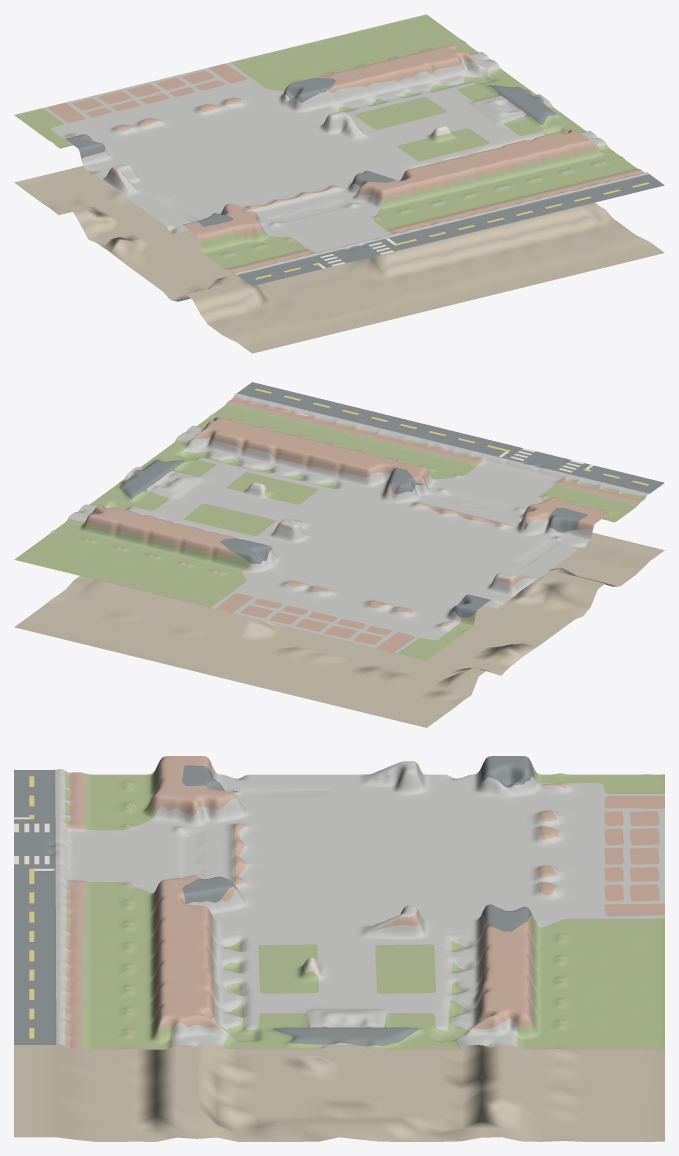
3 views of the same model, one above another, from view 1: azimuth 30°, elevation 25°; view 2: azimuth 150°, elevation 25°; view 3: azimuth 270°, elevation 25° (orthographic). The views are drawn at different scales.
Parts seen in each view (by area): view 1: s_-5_3__stone_paving, s_-5_3__soil, s_-5_3__grass, s_-5_3__brick_paving, s_-5_3__asphalt; view 2: s_-5_3__stone_paving, s_-5_3__soil, s_-5_3__grass, s_-5_3__brick_paving, s_-5_3__asphalt; view 3: s_-5_3__stone_paving, s_-5_3__soil, s_-5_3__grass, s_-5_3__brick_paving, s_-5_3__asphalt, s_-5_3__yellow_marking.
Part boxes in pixels (x1=…): s_-5_3__stone_paving: x1=43, y1=52, x2=648, y2=274; s_-5_3__soil: x1=14, y1=94, x2=664, y2=353; s_-5_3__grass: x1=14, y1=14, x2=639, y2=273; s_-5_3__brick_paving: x1=46, y1=44, x2=644, y2=272; s_-5_3__asphalt: x1=65, y1=78, x2=664, y2=285; s_-5_3__stone_paving: x1=68, y1=393, x2=649, y2=653; s_-5_3__soil: x1=14, y1=397, x2=664, y2=727; s_-5_3__grass: x1=14, y1=402, x2=645, y2=660; s_-5_3__brick_paving: x1=84, y1=397, x2=643, y2=652; s_-5_3__asphalt: x1=120, y1=382, x2=664, y2=617; s_-5_3__stone_paving: x1=55, y1=761, x2=664, y2=1048; s_-5_3__soil: x1=14, y1=883, x2=664, y2=1141; s_-5_3__grass: x1=65, y1=764, x2=664, y2=1049; s_-5_3__brick_paving: x1=65, y1=756, x2=664, y2=1047; s_-5_3__asphalt: x1=14, y1=756, x2=534, y2=1046; s_-5_3__yellow_marking: x1=29, y1=776, x2=34, y2=1038.
Size of the model in its own units: 128 by 25.01 by 128.
